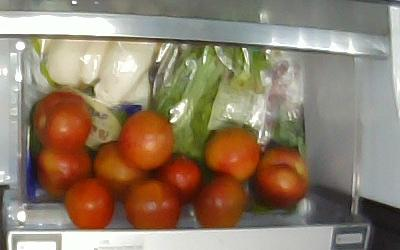prune: (249, 147, 310, 207), (32, 93, 92, 150), (35, 145, 95, 198), (119, 112, 174, 168), (91, 141, 146, 197), (203, 129, 261, 180), (126, 181, 182, 229), (195, 177, 246, 229), (150, 154, 204, 199), (64, 180, 112, 229)
